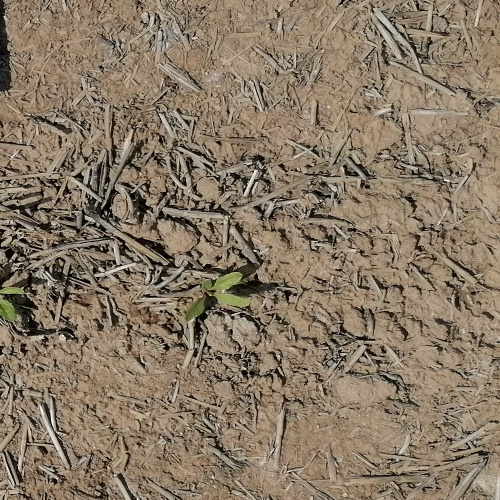beet: (183, 269, 252, 318), (0, 285, 25, 324)
